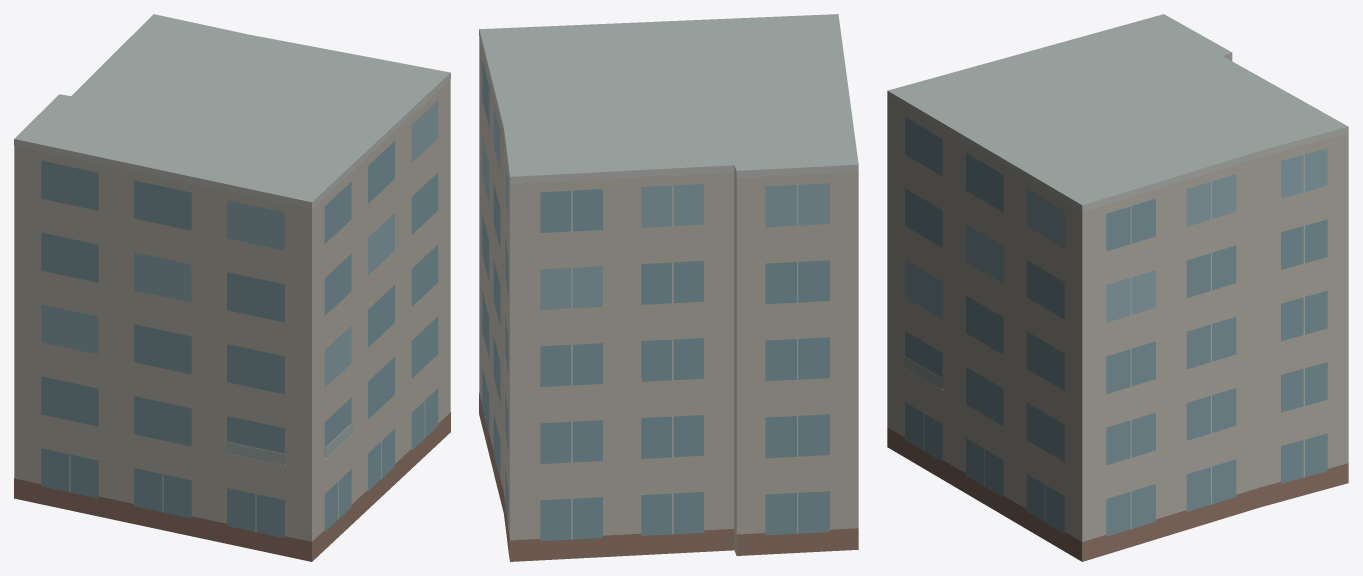
The model's file is survey-upis-32894022.glb.
3 views of the same model, side by side, from view 1: azimuth 30°, elevation 25°; view 2: azimuth 150°, elevation 25°; view 3: azimuth 270°, elevation 25° (orthographic). The views are drawn at different scales.
Parts seen in each view (by area): view 1: survey-upis-32894022.tmp; view 2: survey-upis-32894022.tmp; view 3: survey-upis-32894022.tmp.
Part boxes in pixels (x1,y1,x2,y2): survey-upis-32894022.tmp: (14,14,450,561); survey-upis-32894022.tmp: (479,14,858,561); survey-upis-32894022.tmp: (887,14,1348,561).
Bounding box in the file's own units: 15.2 × 13.2 × 15.48.
